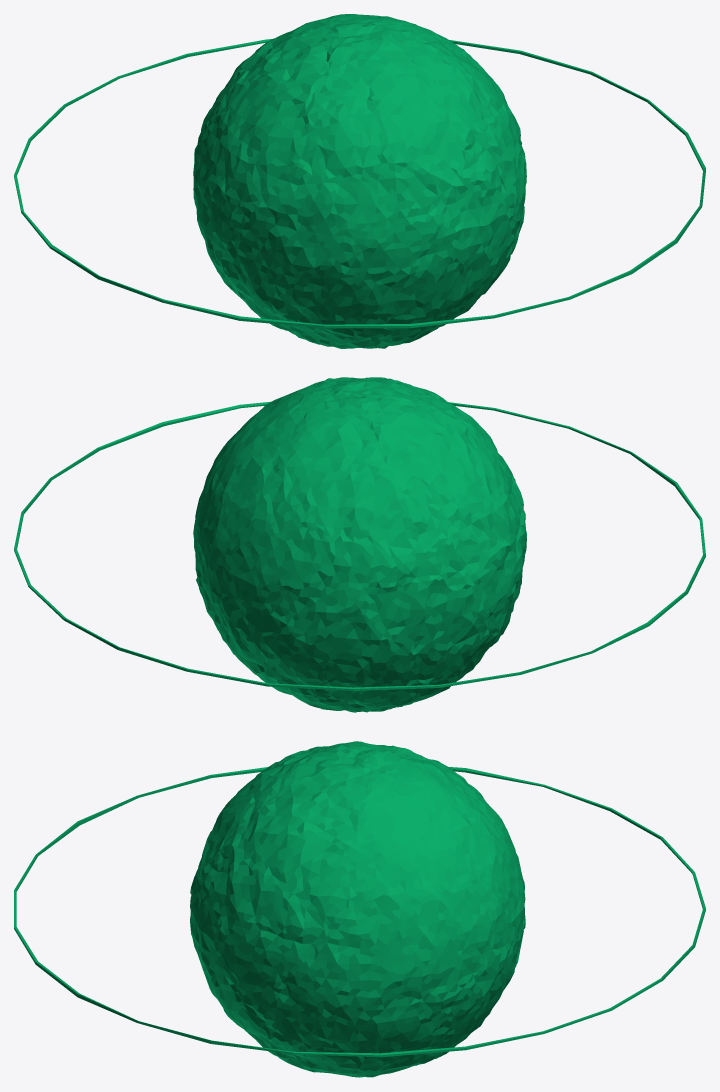
File: Planet_7.FBX
3 views of the same model, one above another, from view 1: azimuth 30°, elevation 25°; view 2: azimuth 150°, elevation 25°; view 3: azimuth 270°, elevation 25° (orthographic).
Parts seen in each view (by area): view 1: Planet_7, Planet_7_Ring; view 2: Planet_7, Planet_7_Ring; view 3: Planet_7, Planet_7_Ring.
Boxes of the visible parts, x1,y1,x2,y2 form: Planet_7: (193,14,526,348); Planet_7_Ring: (14,39,705,328); Planet_7: (193,377,526,712); Planet_7_Ring: (14,401,705,690); Planet_7: (190,741,525,1077); Planet_7_Ring: (14,767,705,1057).
Size of the model in its own units: 256 by 125 by 256.
